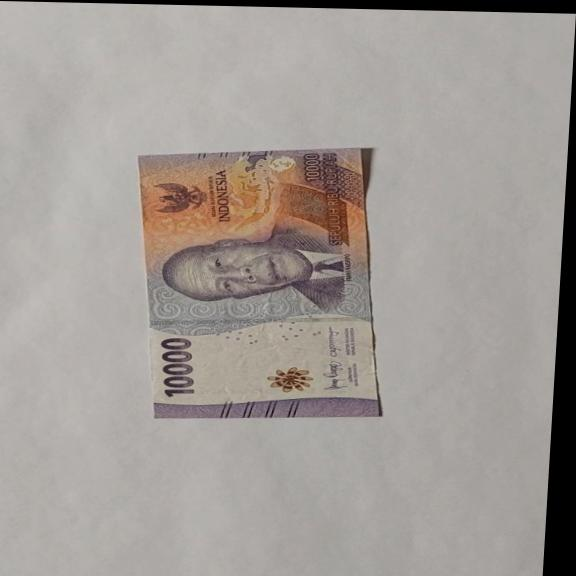Kertas: (120, 141, 397, 423), (155, 336, 199, 398)
